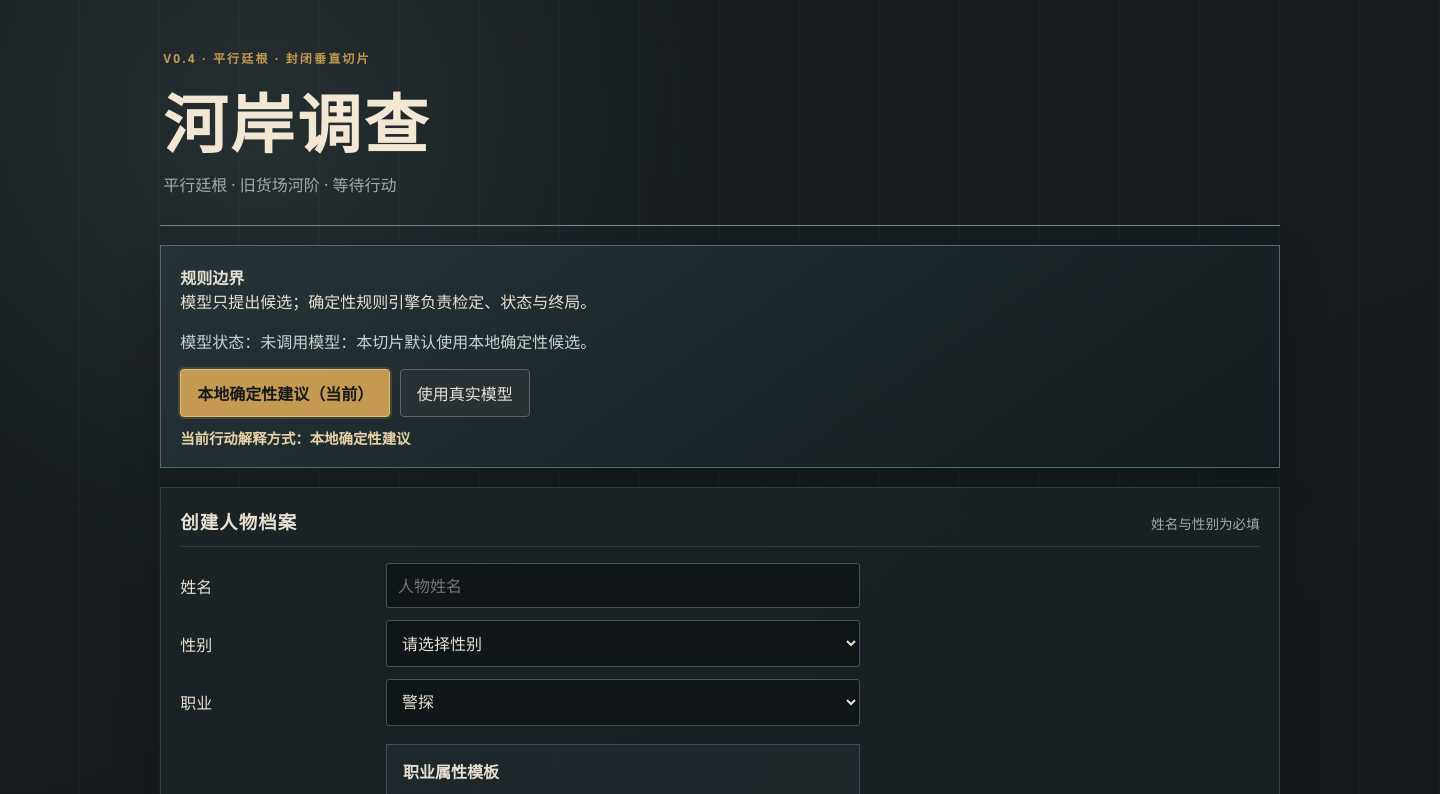
it: V0.4 平行廷根可见切片 › 把自由行动送入预览，确认后产生即时反馈、确定性事实和 Keeper 叙事
Type "现场观察员" into the field labelled "姓名".
click(623, 586); type("现场观察员")  # box [386,564,860,608]
Select "男性" in the dropdown labelled "性别" at {"x": 623, "y": 644}, box [386,620,860,667]
(page scrolled)
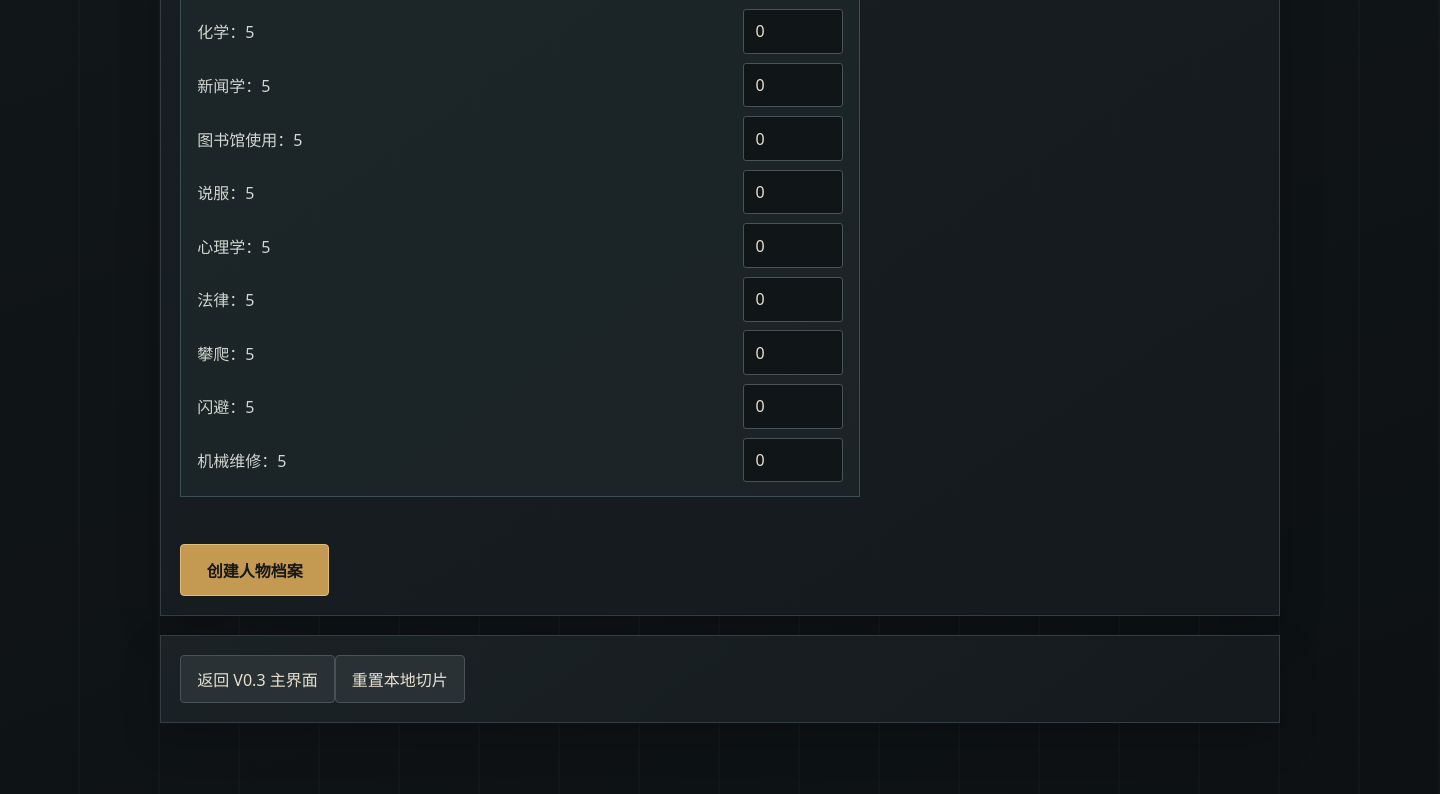
Click the button "创建人物档案".
click(255, 570)  # box [180,544,329,596]
(page scrolled)
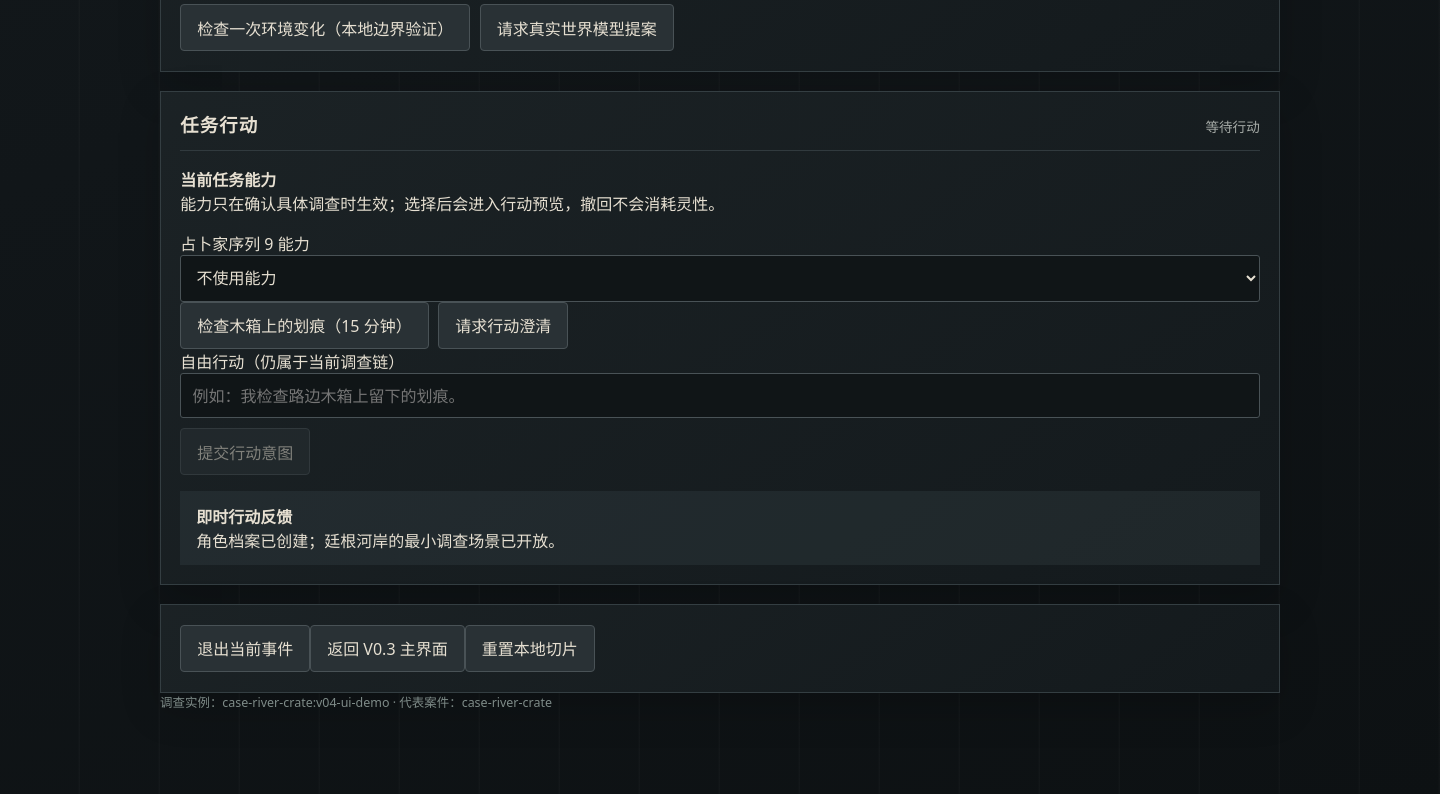
Type "我检查路边木箱上留下的划痕。" into the field labelled "自由行动（仍属于当前调查链）".
click(720, 396); type("我检查路边木箱上留下的划痕。")  # box [180,373,1260,418]
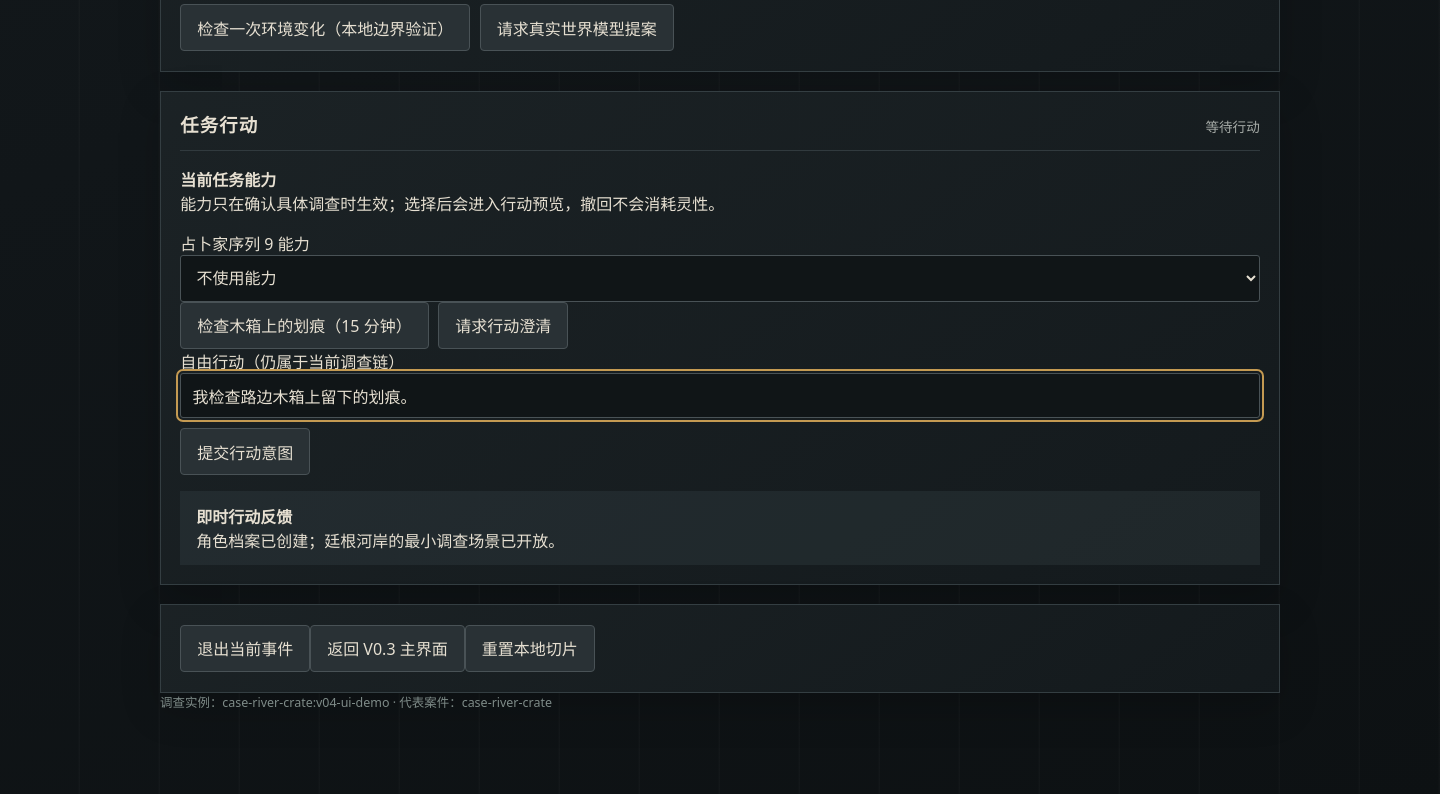
Click the button "提交行动意图".
click(245, 452)  # box [180,428,310,476]
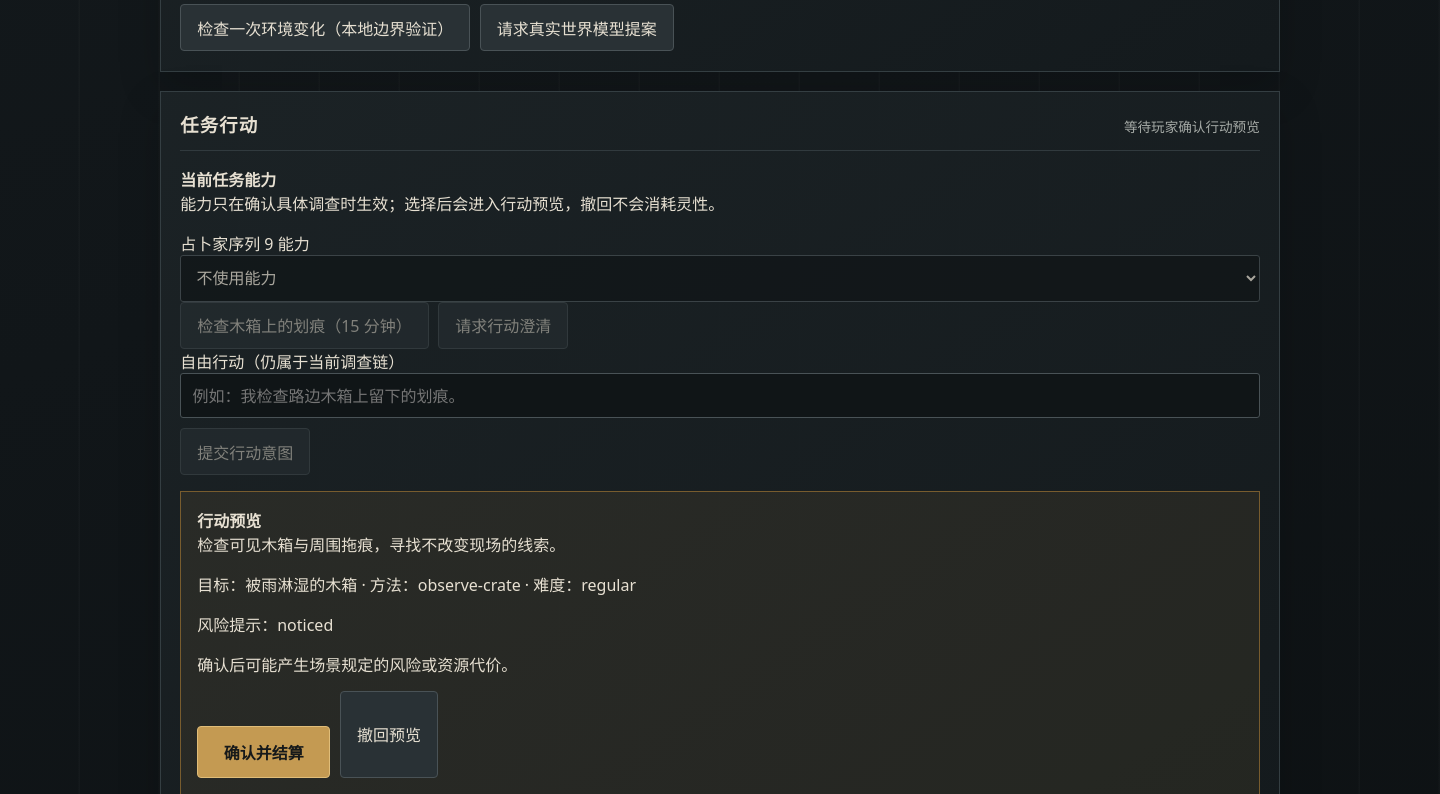
Expected: the text "行动预览" is shown, [197,510,261,532]
Expected: the button "确认并结算" is shown
Click the button "确认并结算".
click(264, 752)  # box [197,726,330,778]
(page scrolled)
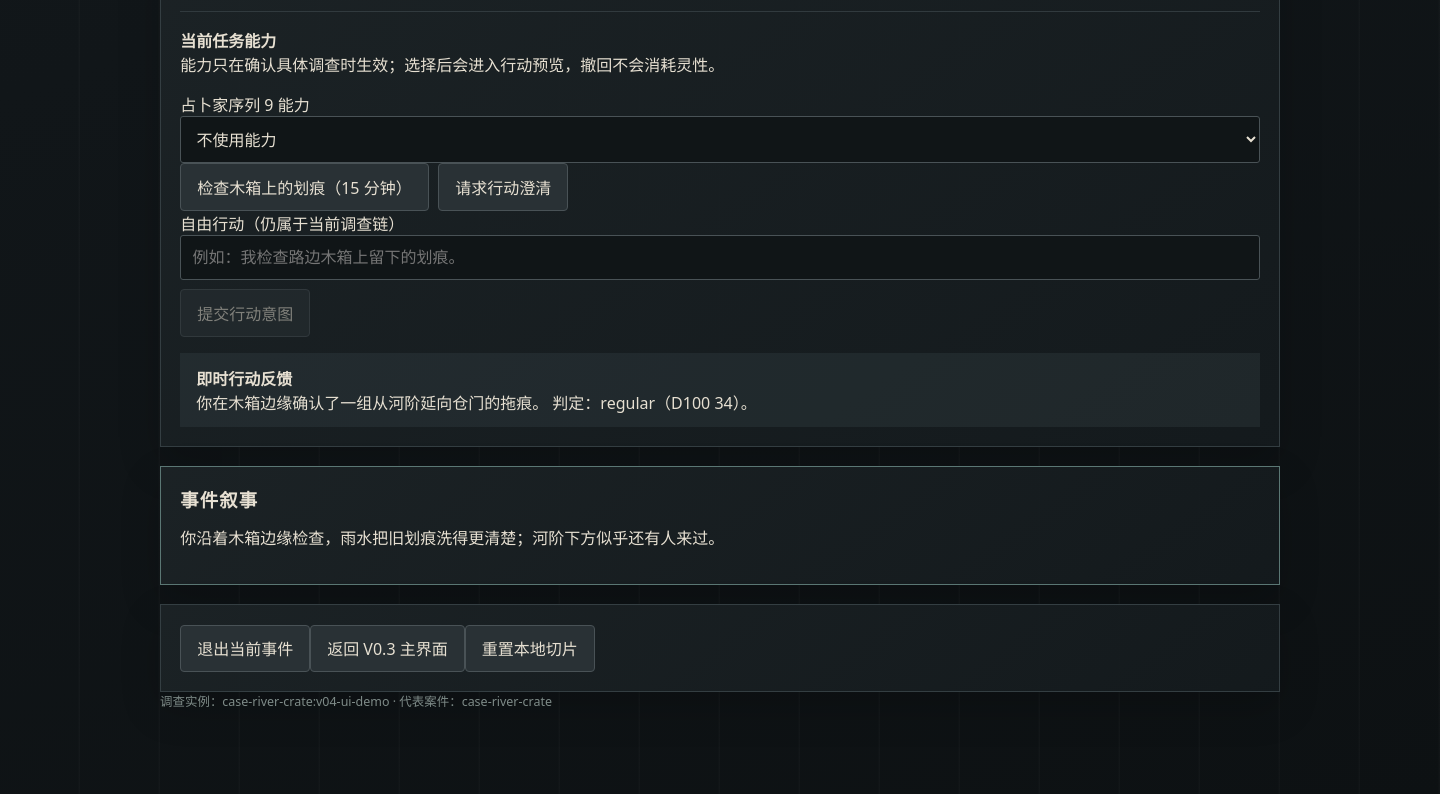
Expected: the text "即时行动反馈" is shown, [196,368,292,390]
Expected: the heading "事件叙事" is shown, [180,487,258,512]
Click the button "退出当前事件".
click(245, 648)  # box [180,624,310,672]
(page scrolled)
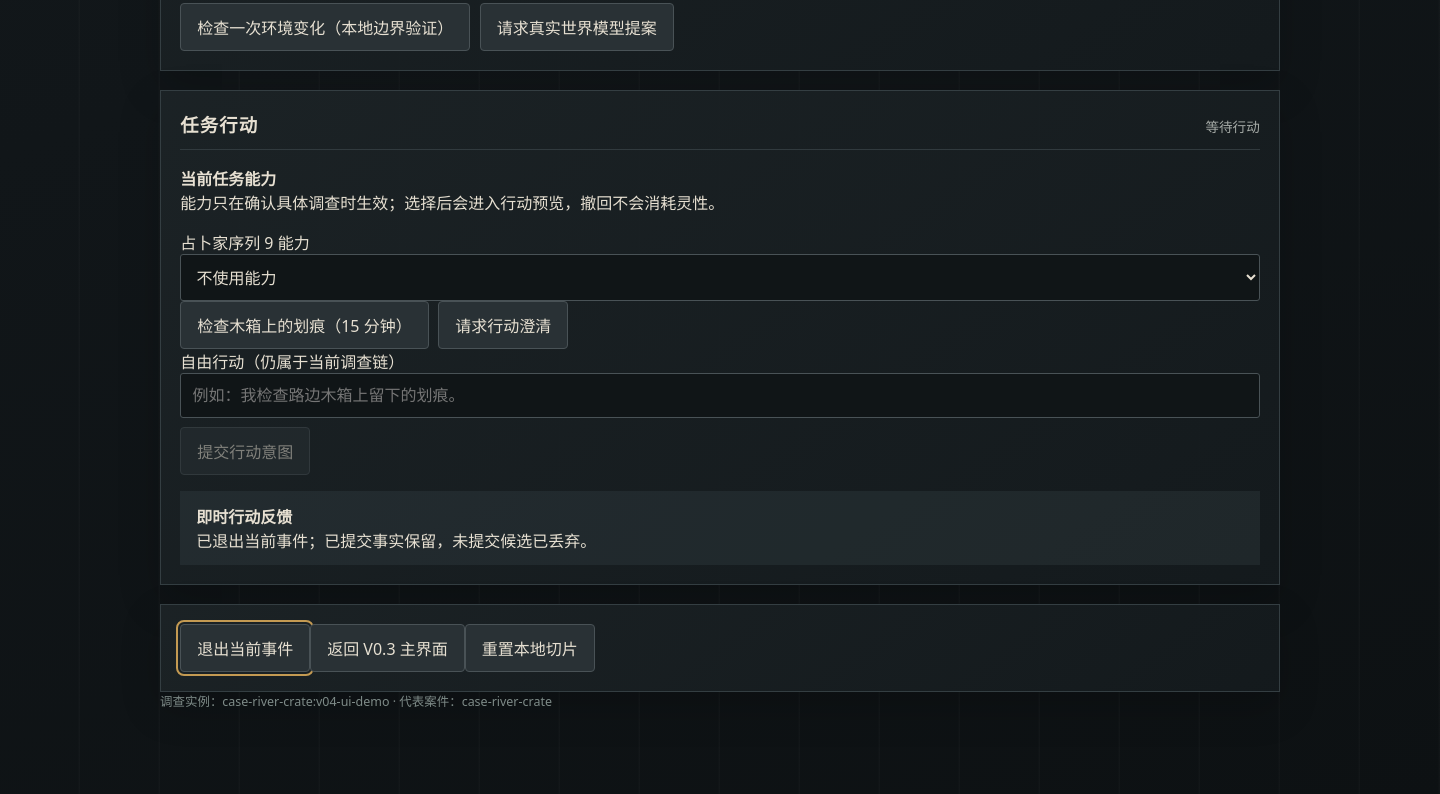
Expected: the text "已退出当前事件；已提交事实保留，未提交候选已丢弃。" is shown, [196,530,596,552]
